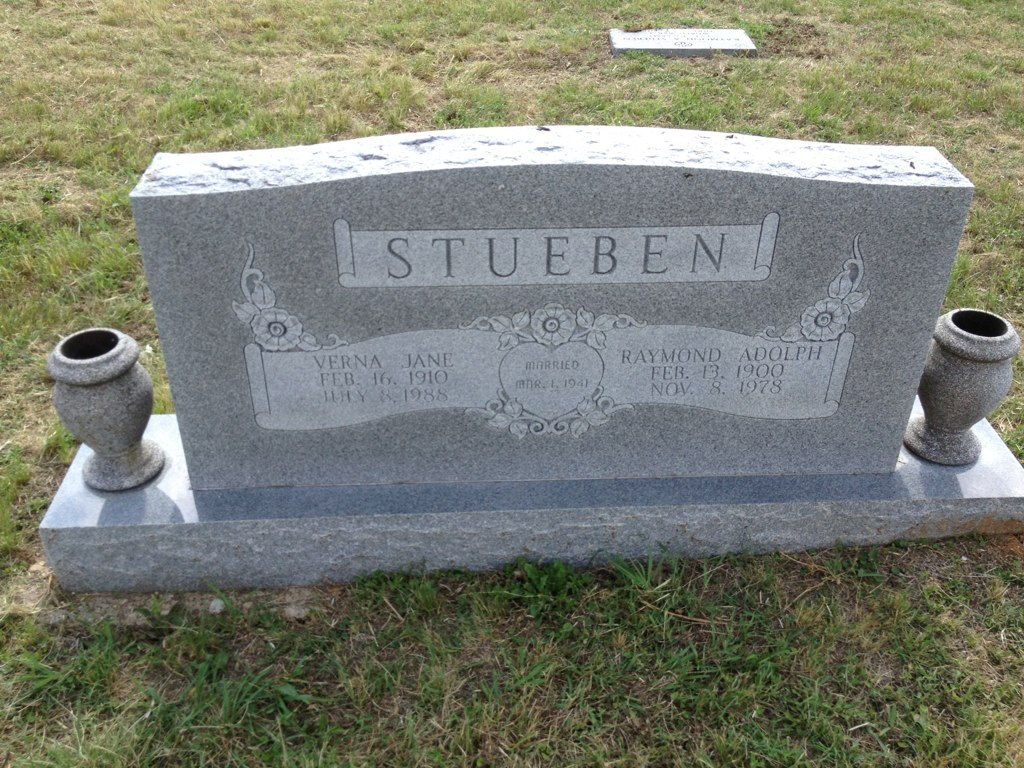upright: (0, 112, 1024, 602)
